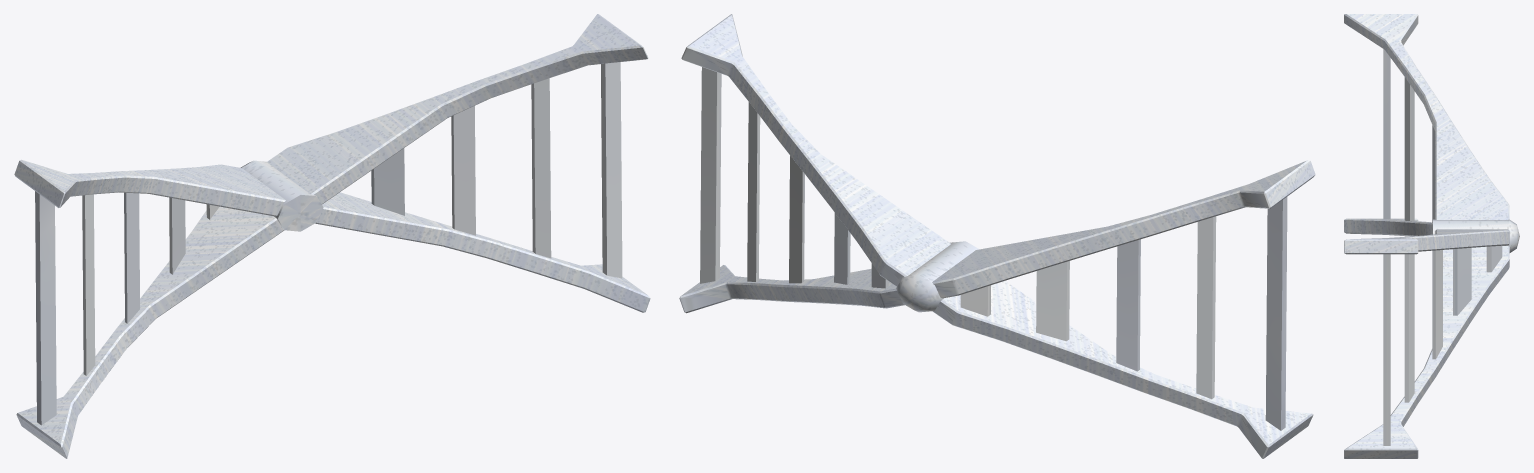
The model's file is Grapple Web.fbx.
3 renders of one model, left to right at view 1: azimuth 30°, elevation 25°; view 2: azimuth 150°, elevation 25°; view 3: azimuth 270°, elevation 25°, orthographic. The views are drawn at different scales.
Parts seen in each view (by area): view 1: GrappleWeb_WebHook02, GrappleWeb_WebHook03, GrappleWeb_WebMid01, GrappleWeb_WebHook04, GrappleWeb_WebHook01, GrappleWeb_WebMid02, GrappleWeb_WebMid03, GrappleWeb_WebMid04, WebHook_LaunchPoint; view 2: GrappleWeb_WebHook02, GrappleWeb_WebHook03, GrappleWeb_WebHook01, GrappleWeb_WebMid01, GrappleWeb_WebMid02, GrappleWeb_WebHook04, GrappleWeb_WebMid03, GrappleWeb_WebMid04, WebHook_LaunchPoint, GrappleWeb_WebMid05; view 3: GrappleWeb_WebHook01, GrappleWeb_WebHook04, GrappleWeb_WebMid02, GrappleWeb_WebHook02, GrappleWeb_WebMid01, GrappleWeb_WebMid03, GrappleWeb_WebHook03, GrappleWeb_WebMid04, WebHook_LaunchPoint, GrappleWeb_WebMid05.
Boxes of the visible parts, x1,y1,x2,y2 form: GrappleWeb_WebHook02: (267, 14, 648, 204); GrappleWeb_WebHook03: (16, 206, 284, 458); GrappleWeb_WebMid01: (35, 62, 622, 425); GrappleWeb_WebHook04: (315, 192, 650, 312); GrappleWeb_WebHook01: (14, 159, 285, 216); GrappleWeb_WebMid02: (82, 78, 551, 375); GrappleWeb_WebMid03: (124, 106, 475, 323); GrappleWeb_WebMid04: (169, 148, 404, 274); WebHook_LaunchPoint: (240, 160, 323, 231); GrappleWeb_WebHook02: (681, 14, 950, 286); GrappleWeb_WebHook03: (932, 281, 1313, 458); GrappleWeb_WebHook01: (932, 160, 1315, 298); GrappleWeb_WebMid01: (700, 67, 1287, 430); GrappleWeb_WebMid02: (747, 102, 1216, 399); GrappleWeb_WebHook04: (679, 265, 904, 313); GrappleWeb_WebMid03: (789, 155, 1140, 371); GrappleWeb_WebMid04: (834, 213, 1069, 341); WebHook_LaunchPoint: (896, 241, 979, 312); GrappleWeb_WebMid05: (871, 263, 990, 316); GrappleWeb_WebHook01: (1344, 14, 1509, 219); GrappleWeb_WebHook04: (1344, 246, 1509, 458); GrappleWeb_WebMid02: (1404, 77, 1414, 402); GrappleWeb_WebHook02: (1344, 229, 1509, 254); GrappleWeb_WebMid01: (1383, 49, 1390, 445); GrappleWeb_WebMid03: (1432, 125, 1442, 359); GrappleWeb_WebHook03: (1344, 218, 1432, 236); GrappleWeb_WebMid04: (1453, 248, 1471, 315); WebHook_LaunchPoint: (1433, 219, 1519, 252); GrappleWeb_WebMid05: (1486, 245, 1502, 272).
Size of the model in its own units: 0.5612 by 0.2475 by 0.1769.
1 material, 1 textured.
